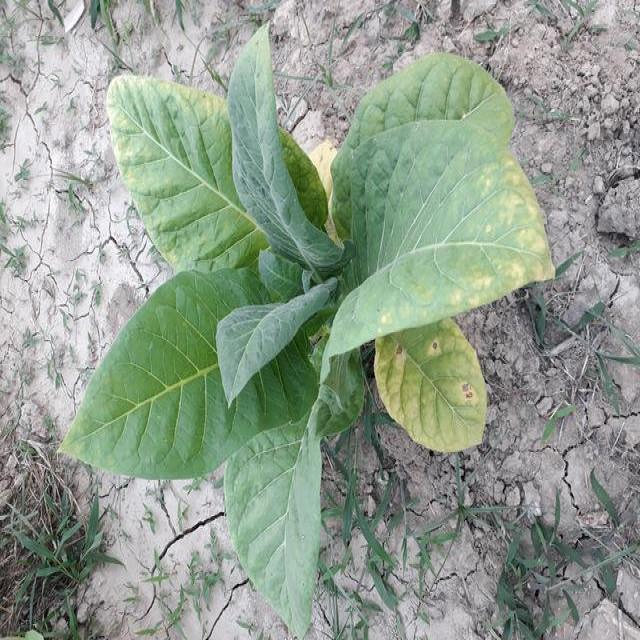crop: (78, 29, 556, 608)
